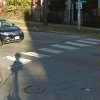crosswalk: (4, 39, 98, 64)
